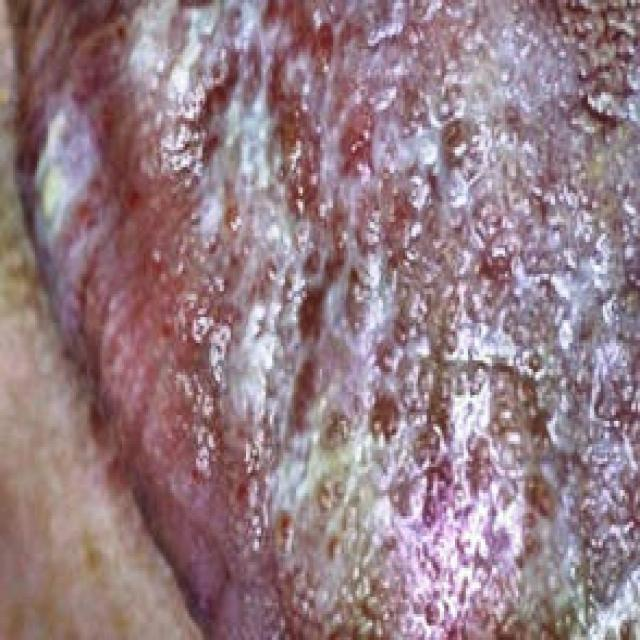Psoriasis-pictures-Lichen-Planus: (24, 23, 612, 598)
